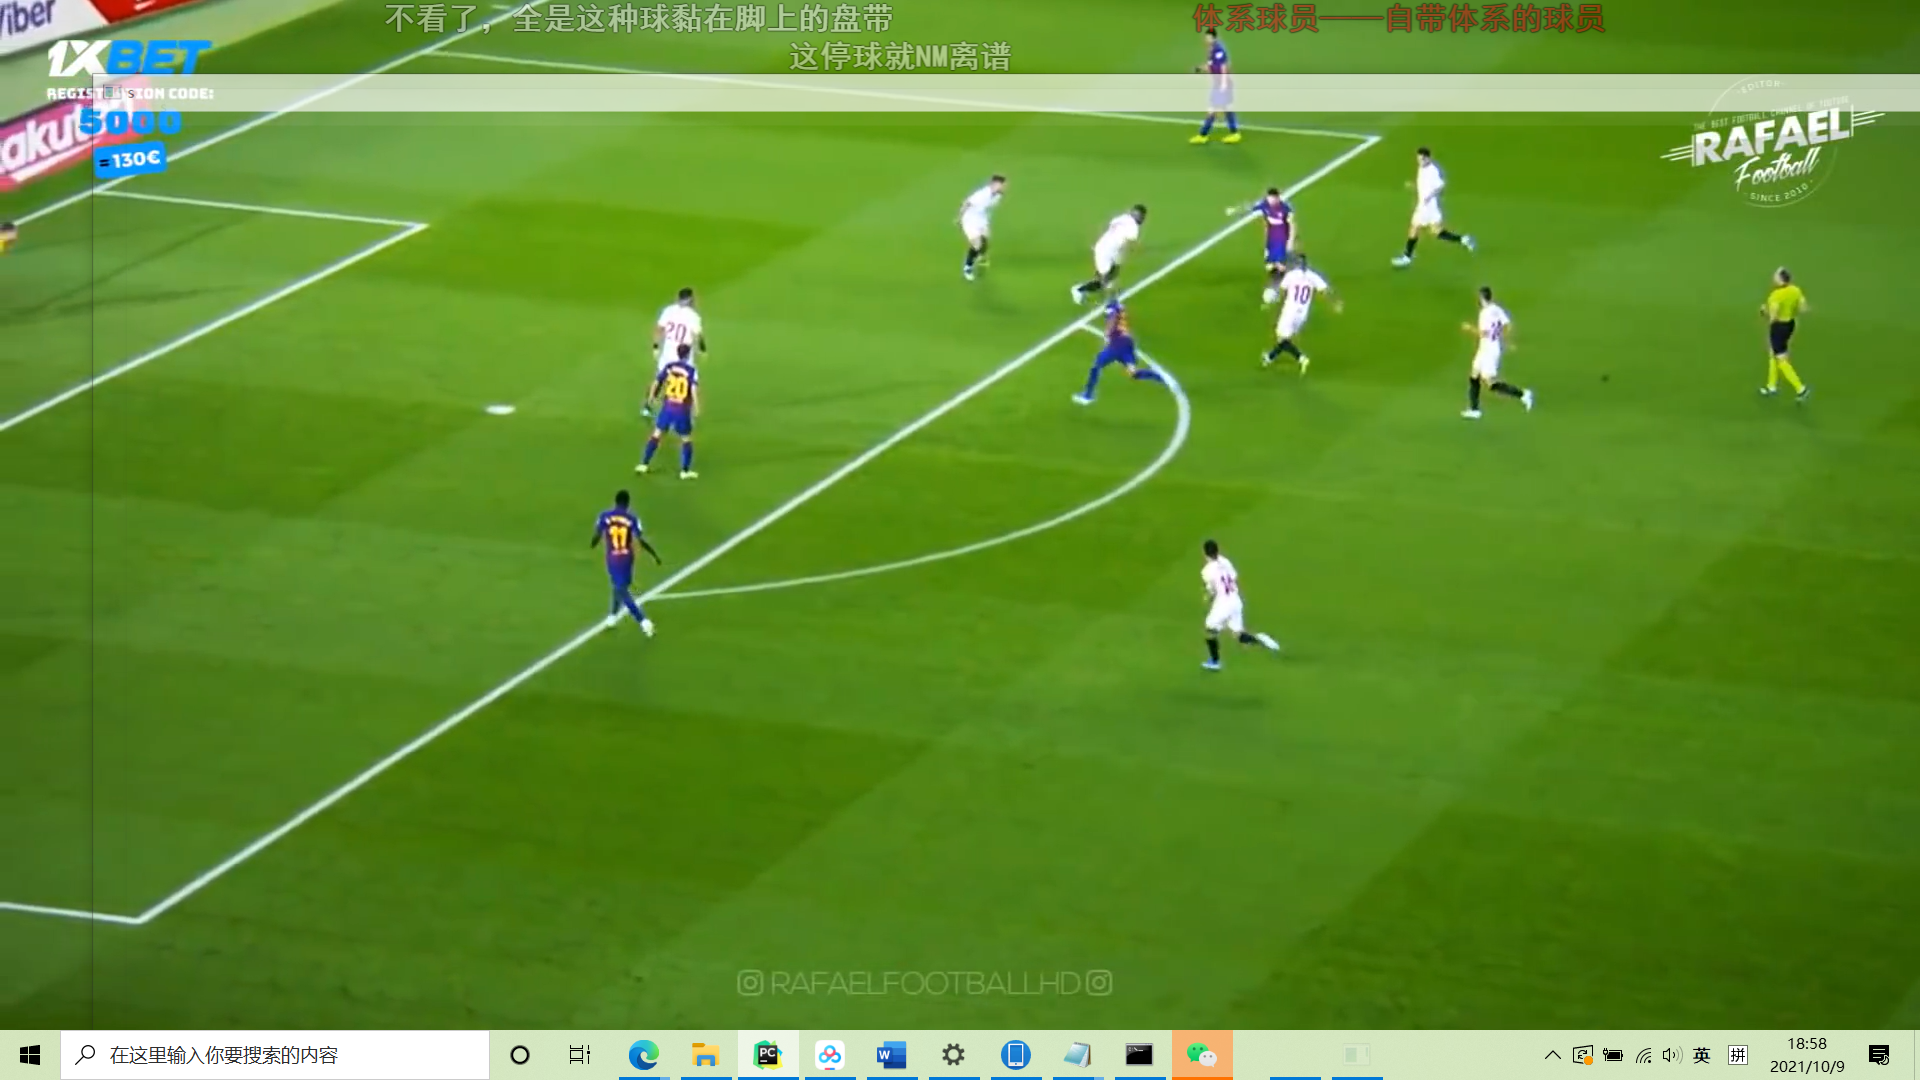ft: (1262, 287, 1278, 305)
